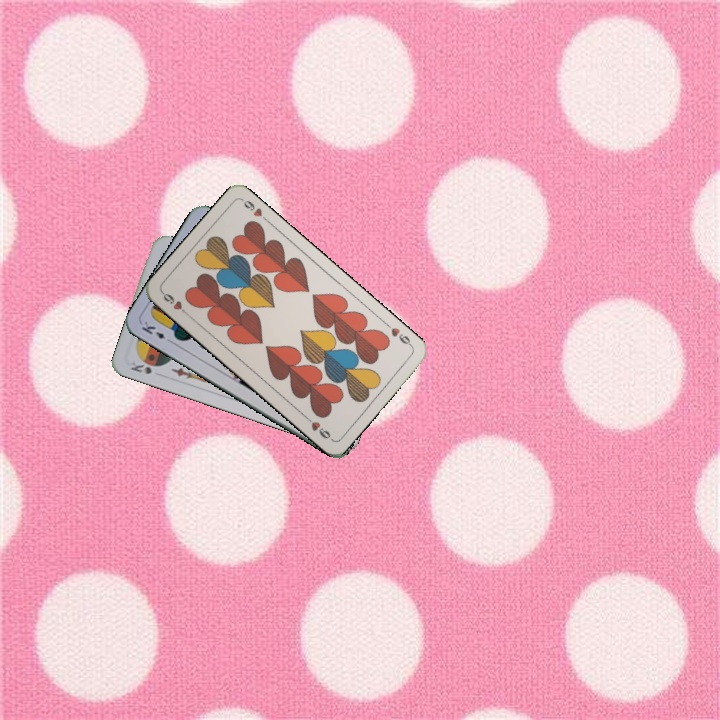EK: (137, 317, 175, 346)
H9: (158, 288, 192, 318), (381, 319, 415, 349)
SK: (126, 358, 154, 377)
